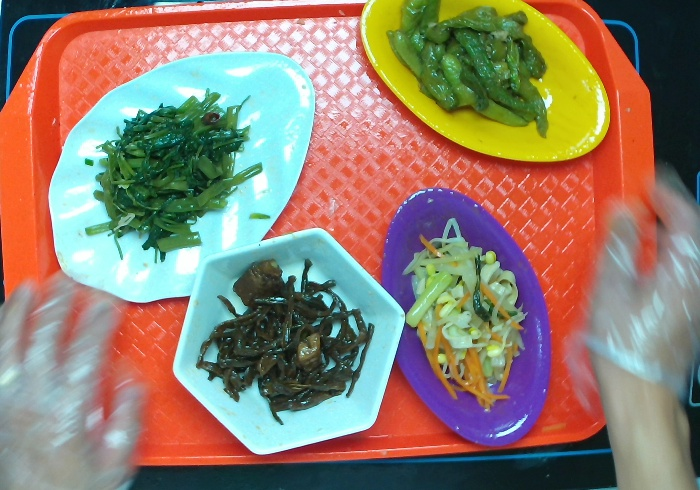RJxy-Bai_Ye_Pan: (45, 50, 320, 307)
RJxy-Fen_Hong_Tuo_Yuan: (376, 185, 559, 453)
RJxy-Huang_Se_Tuo_Yuan: (357, 1, 619, 170)
RJxy-Liu_Jiao_Wan: (169, 224, 410, 458)
